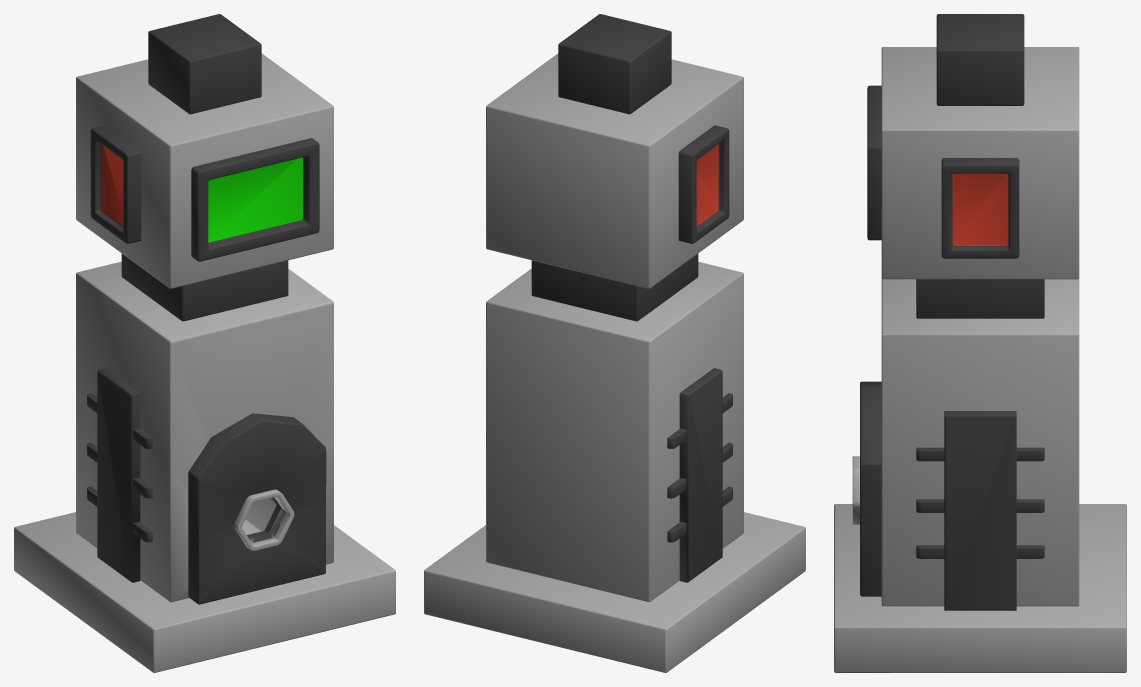
Rendered from generador.fbx.
3 views of the same model, side by side, from view 1: azimuth 30°, elevation 25°; view 2: azimuth 150°, elevation 25°; view 3: azimuth 270°, elevation 25° (orthographic). The views are drawn at different scales.
Visible parts, largest first — view 1: generador; view 2: generador; view 3: generador.
Part boxes in pixels (<box>): generador: <box>14,14,395,672</box>; generador: <box>424,14,805,672</box>; generador: <box>834,14,1126,672</box>.
Size of the model in its own units: 184 by 402 by 184.
